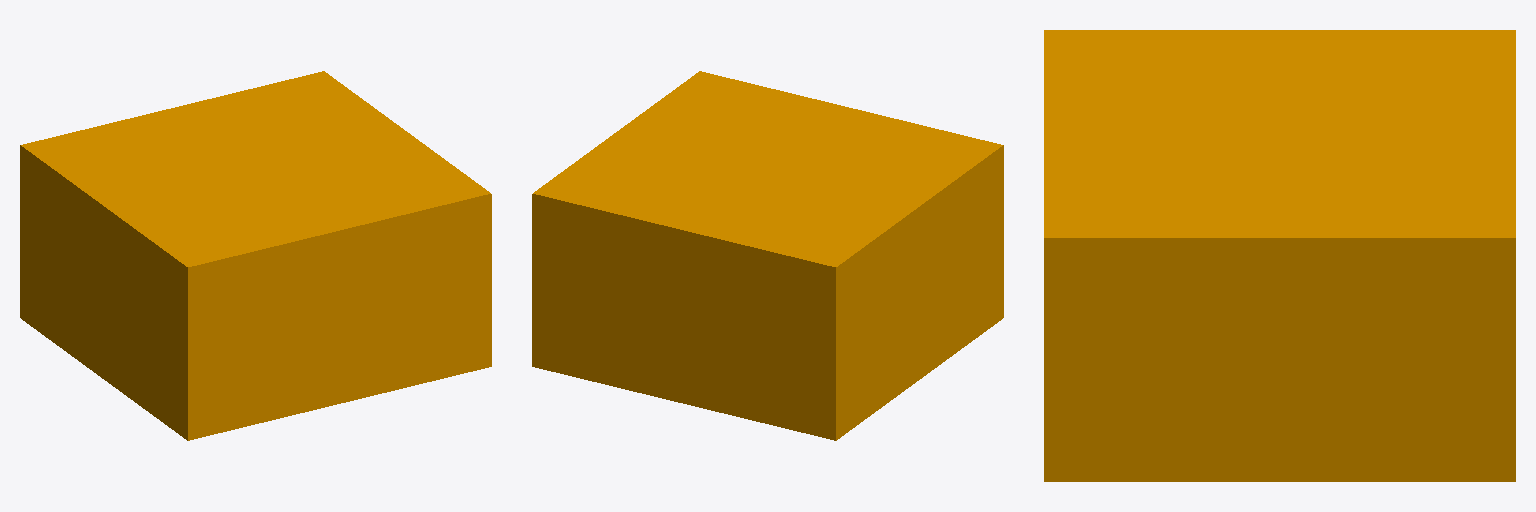
The robot description file, URDF, robot "2x2":
<?xml version='1.0' encoding='UTF-8'?>
<robot name="2x2">
  <link name="base_link">
    <inertial>
      <origin xyz="0.0 0.0 0.0" rpy="0.0 0.0 0.0"/>
      <mass value="0.01"/>
      <inertia ixx="0.1" ixy="0.0" ixz="0.0" iyy="0.1" iyz="0.0" izz="0.1"/>
    </inertial>
    <visual>
      <geometry>
        <box size="0.022 0.021 0.012"/>
      </geometry>
      <material name=""/>
      <origin xyz="0.0 0.0 0.0" rpy="0.0 0.0 0.0"/>
    </visual>
    <collision>
      <geometry>
        <box size="0.022 0.021 0.012"/>
      </geometry>
      <origin xyz="0.0 0.0 0.0" rpy="0.0 0.0 0.0"/>
    </collision>
  </link>
  <material name="">
    <color rgba="0.982 0.172 0.757 1.   "/>
  </material>
  <contact>
    <lateral_friction value="1.0"/>
    <rolling_friction value="0.0"/>
    <contact_cfm value="0.0"/>
    <contact_erp value="1.0"/>
  </contact>
</robot>

--- What the picture shows (computed from the rendered views, not written in the file) ---
The picture shows the robot from 3 angles, left to right: view 1: azimuth 30°, elevation 25°; view 2: azimuth 150°, elevation 25°; view 3: azimuth 270°, elevation 25°; orthographic projection.
Robot: 2x2 — 1 links, 0 joints (none); root link base_link; default pose: all joints at 0.
Visible links, largest first — view 1: base_link; view 2: base_link; view 3: base_link.
Boxes of the visible links, x1,y1,x2,y2 form: base_link: (20,71,491,440); base_link: (532,71,1003,440); base_link: (1044,30,1515,481).
Size in the robot's own frame: 0.022 by 0.021 by 0.012 metres.
Geometry: primitives only (box / cylinder / sphere), no mesh files.